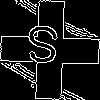S: (25, 25, 60, 73)
